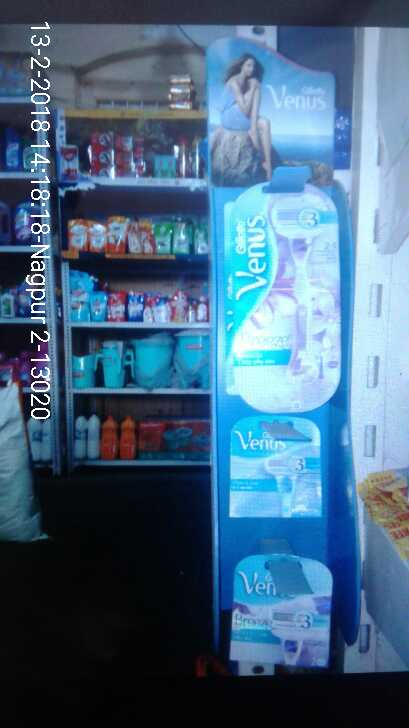venus: (228, 187, 344, 407), (226, 551, 339, 669), (225, 416, 322, 522)
